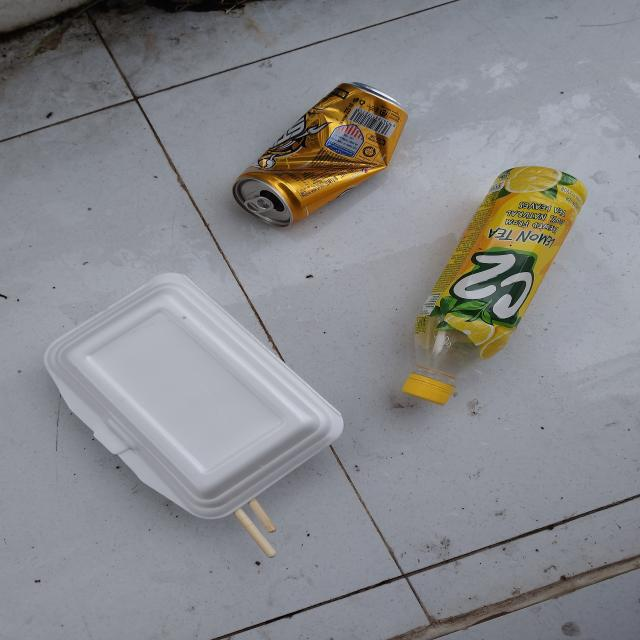bottle: (401, 165, 590, 409)
can: (232, 80, 410, 229)
foam box: (40, 272, 344, 522)
